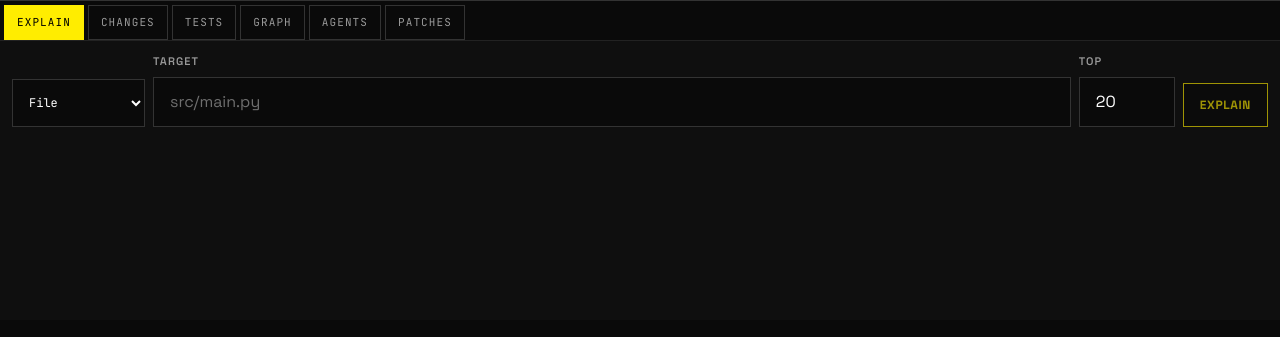
Scenario: DeveloperPanel (developer intelligence) › looks up an existing governed review by id
Click the tab "Patches": (425, 22) [385, 5, 465, 40]
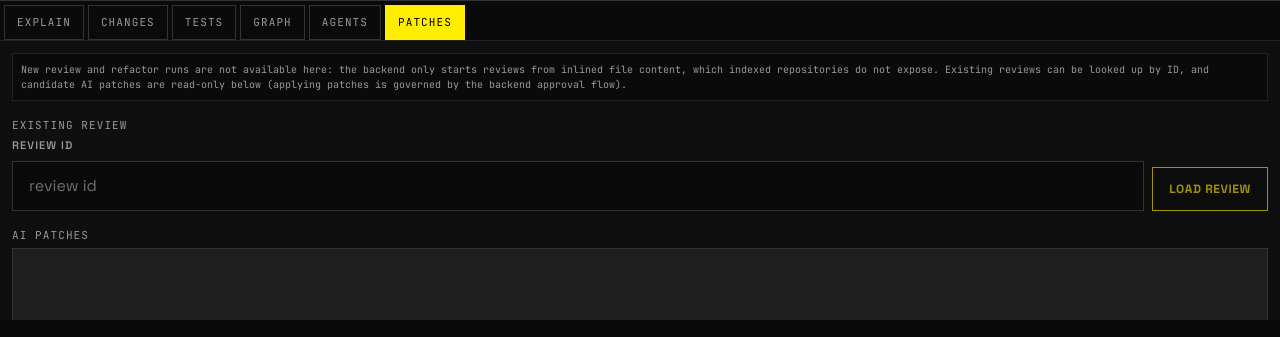
In the field labelled "Review ID": (578, 186) [12, 161, 1144, 211], type "rev-42"
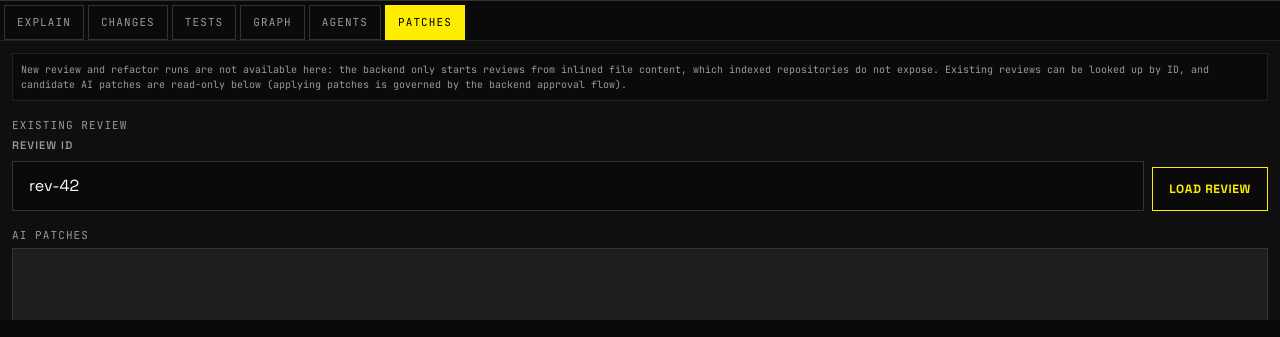
Click the button "Load review": (1210, 189) [1152, 167, 1268, 211]
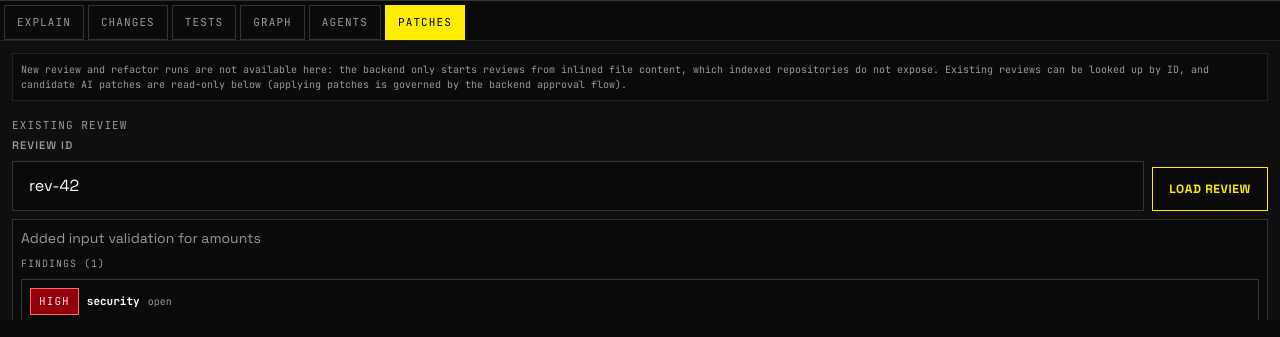
expect the text "Added input validation for amounts" is shown: met, box [21, 229, 261, 247]
expect the text "high" is shown: met, box [30, 288, 79, 314]
